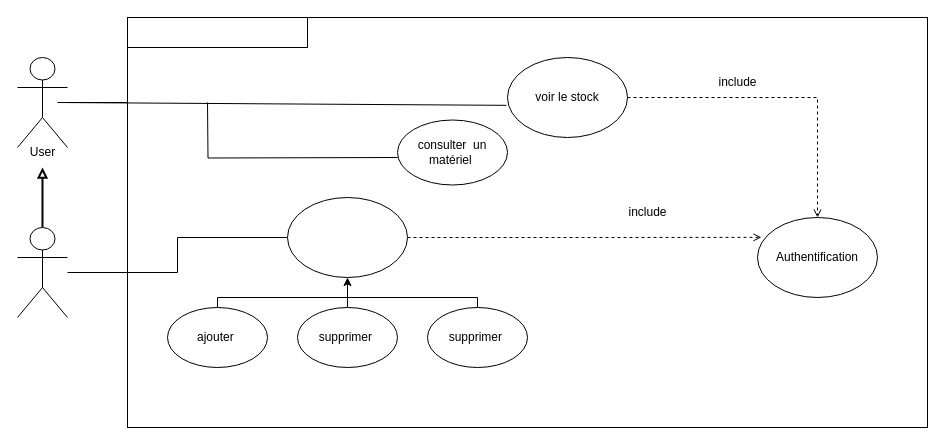
Image size: 945x445. Some labels were removed from this diagram. Each missing label, with the centre of its shape:
Admin: the point at 42,272
Gestion du stock: the point at 217,32
Gérer le stock: the point at 347,237
